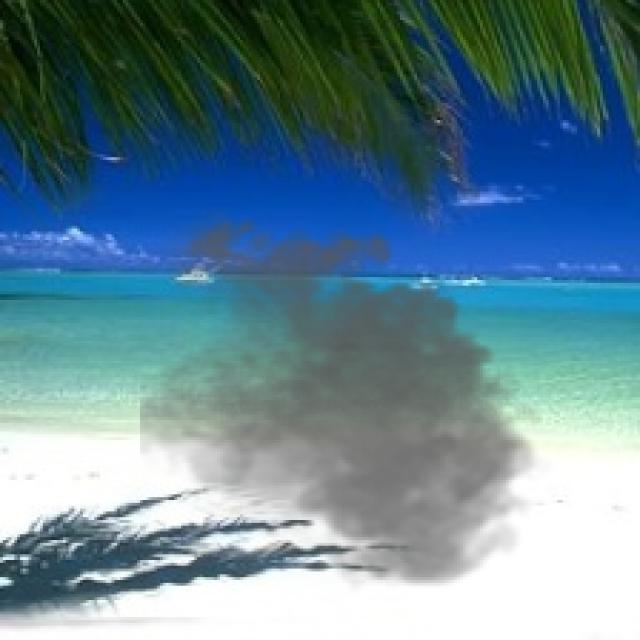Smoke: (140, 206, 554, 594)
